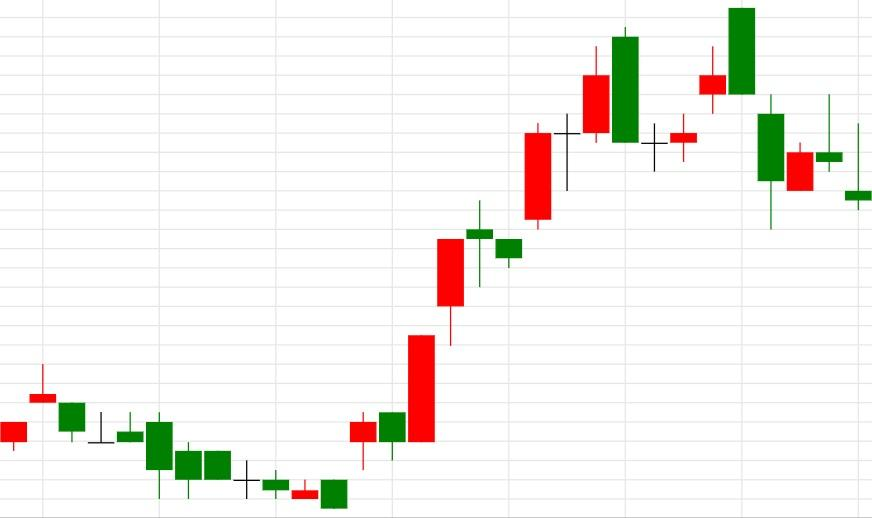bearish_engulfing_fall: (495, 26, 639, 268)
